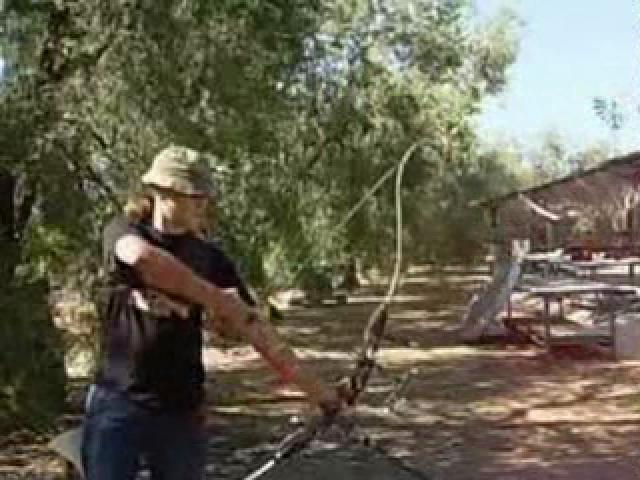I: (84, 127, 349, 480)
